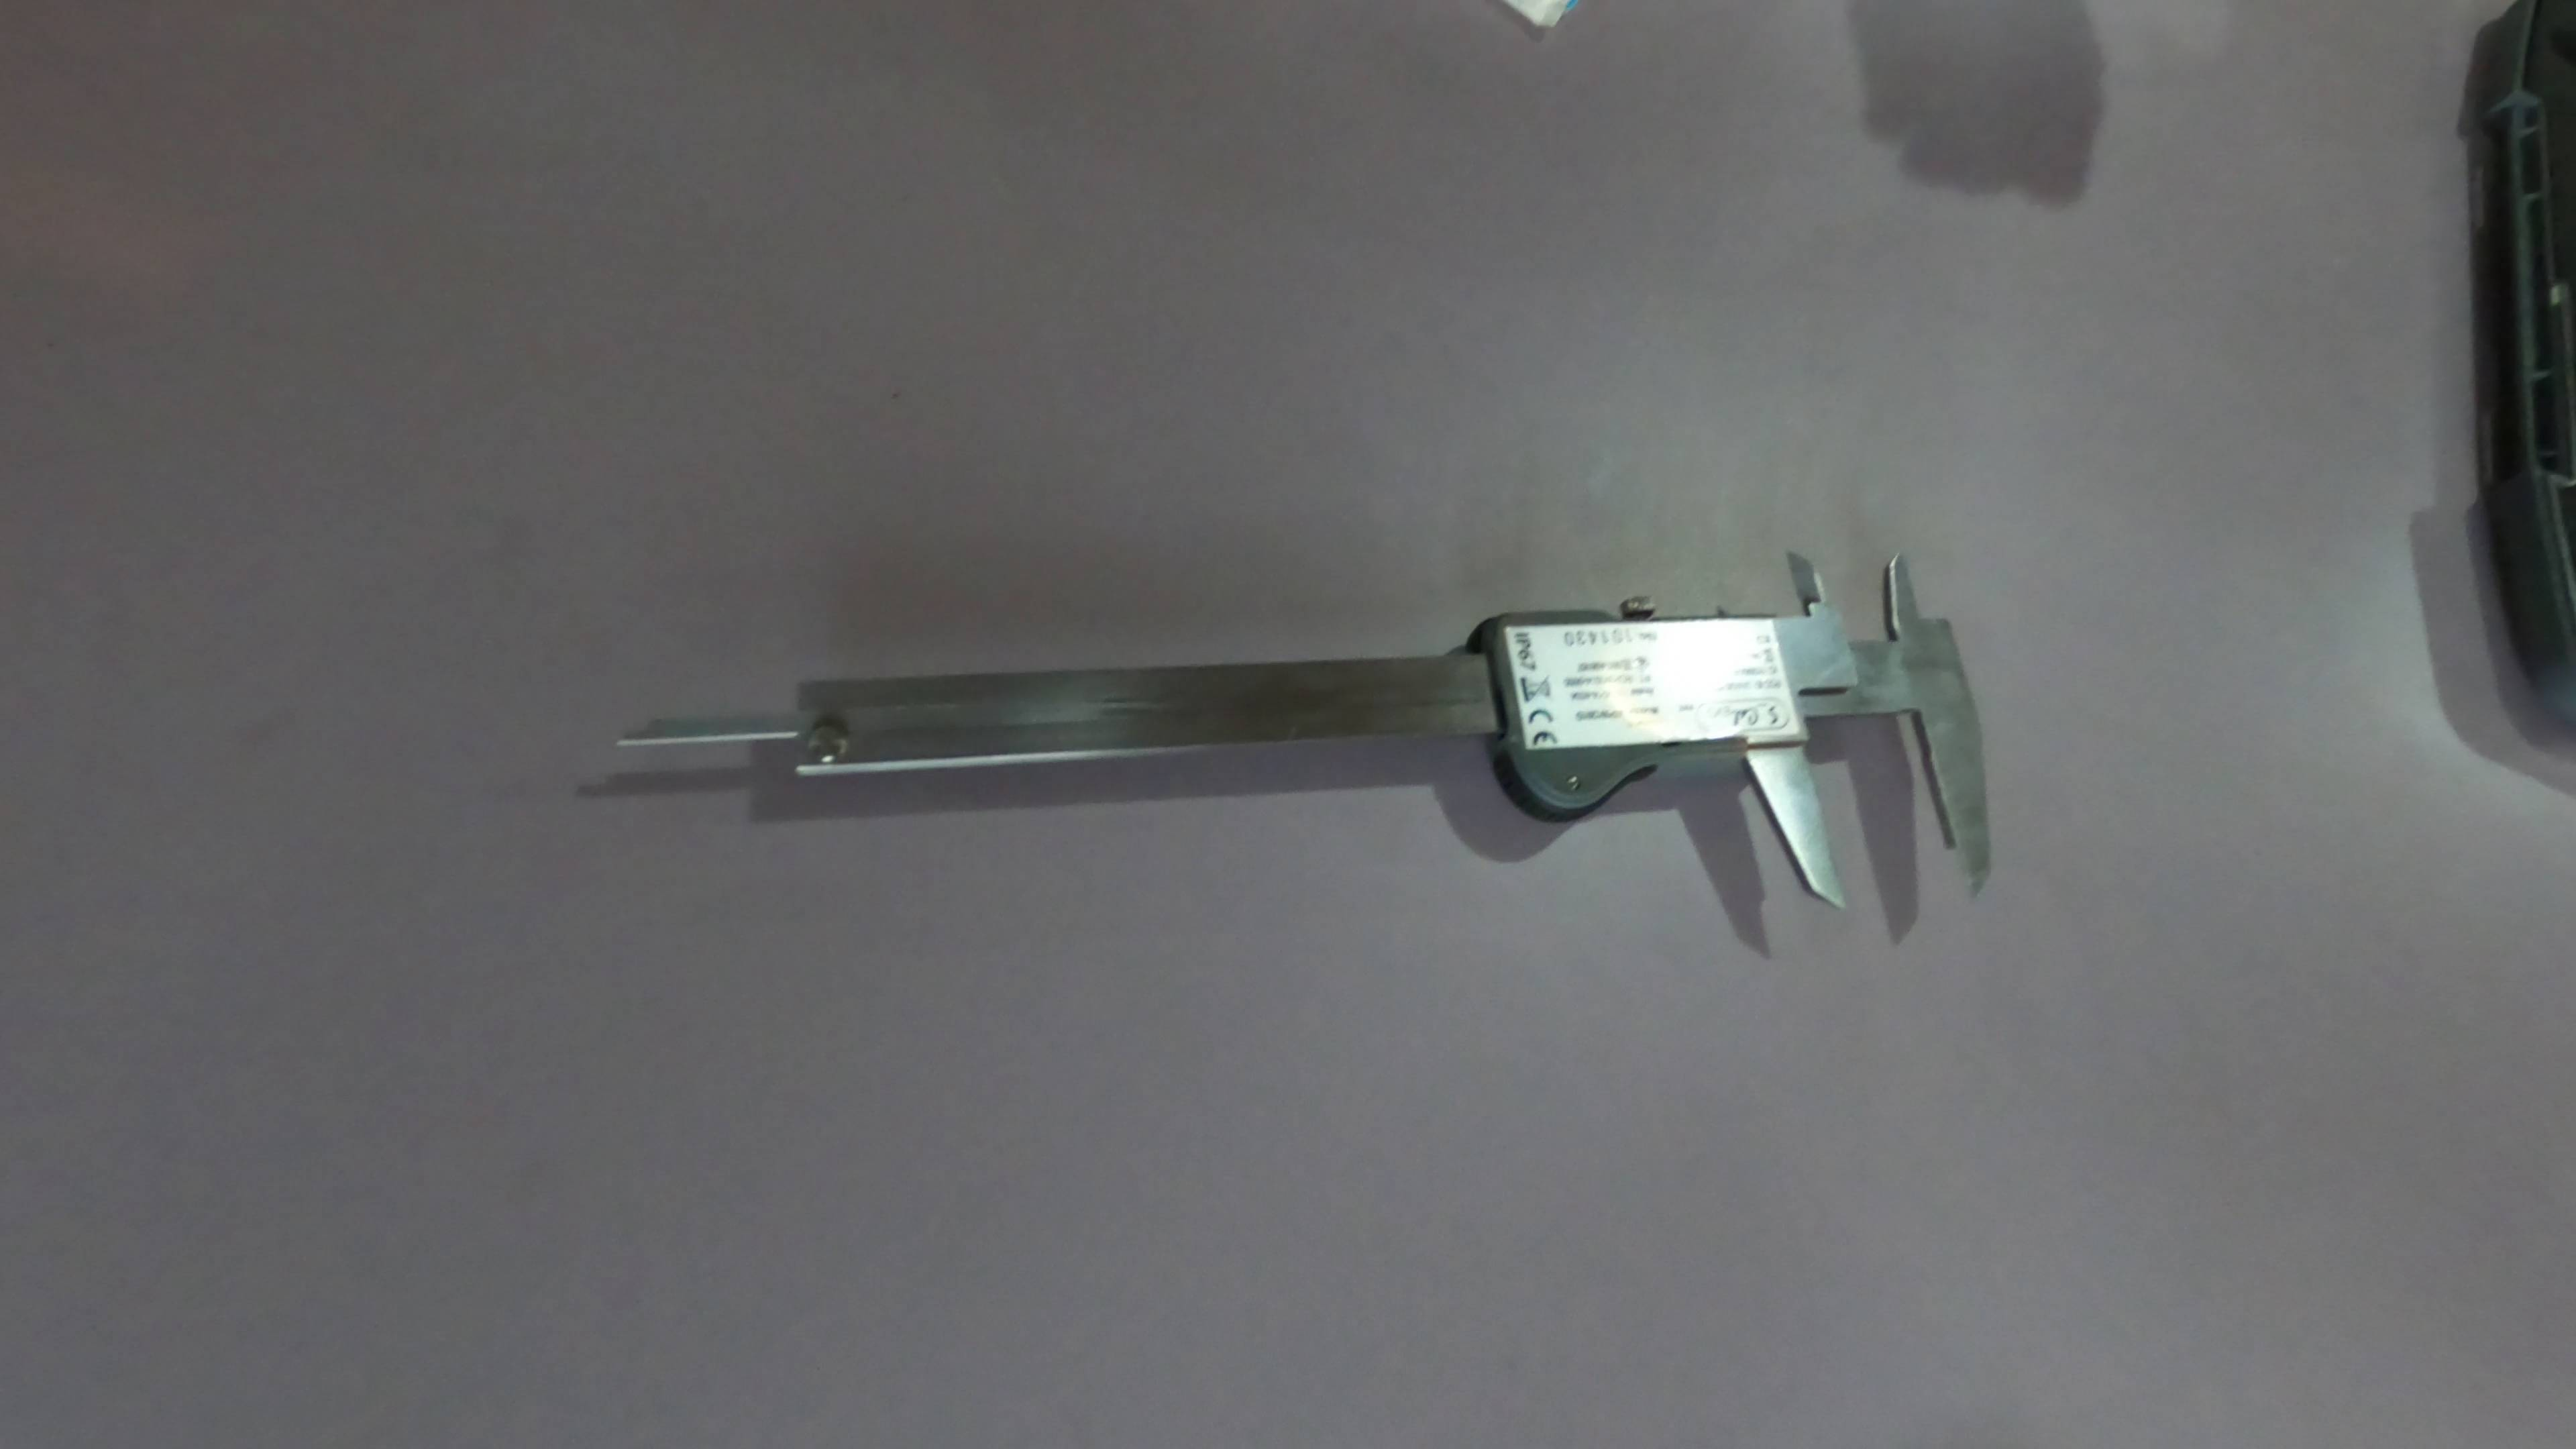vernier_caliper: (626, 550, 1999, 902)
